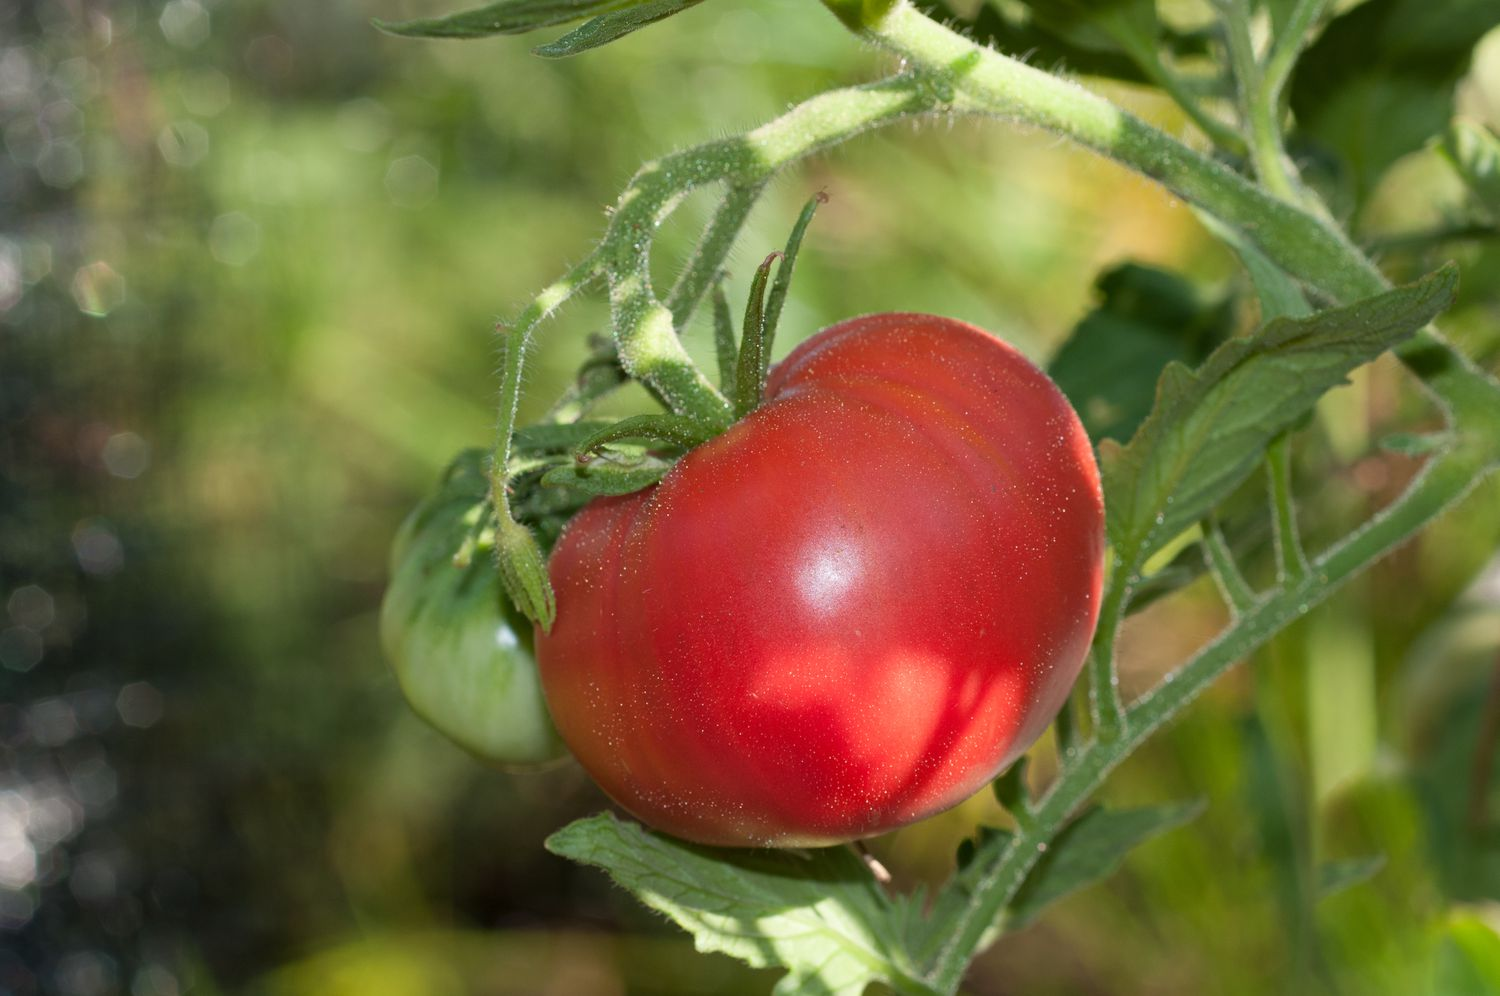tomato: (529, 233, 1169, 885)
